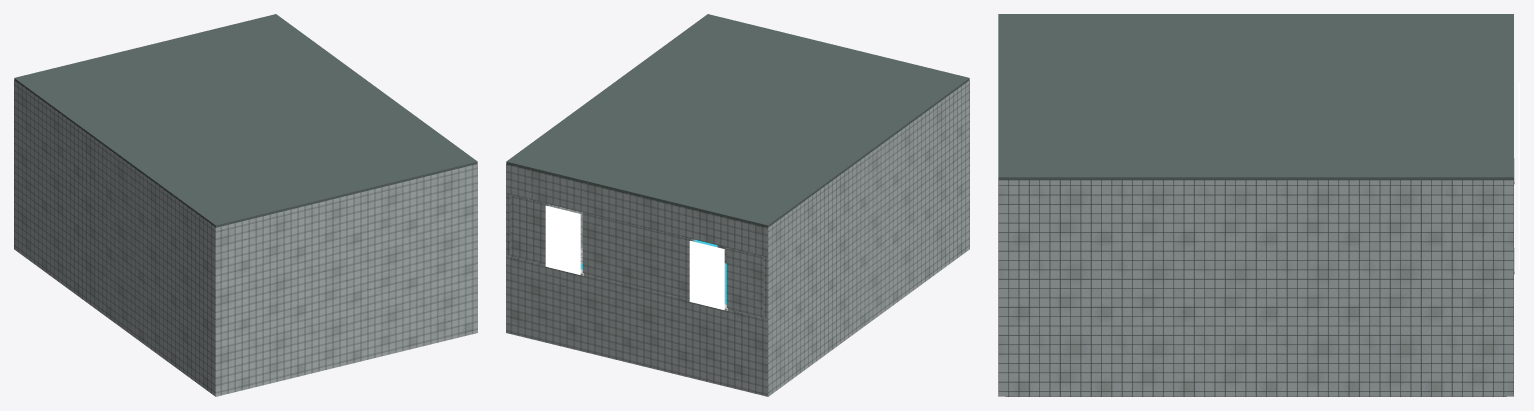
The model's file is pool_room_v001-36cdbf4e.glb.
The picture shows the model from 3 angles, left to right: view 1: azimuth 30°, elevation 25°; view 2: azimuth 150°, elevation 25°; view 3: azimuth 270°, elevation 25°; orthographic projection. The views are drawn at different scales.
Visible parts, largest first — view 1: PoolCeiling, PoolWallFront, PoolWallLeft; view 2: PoolCeiling, PoolWallLeft, PoolWallBackBottom, PoolWallBackTop, PoolWallBackCenter, PoolWallBackLeft, PoolWallBackRight, PoolWindowSky_1, PoolWindowSky_2, PoolWallRight; view 3: PoolWallRight, PoolCeiling, PoolBasinFloor.
Part boxes in pixels (x1,y1,x2,y2): PoolCeiling: (14, 14, 477, 227); PoolWallFront: (216, 164, 477, 396); PoolWallLeft: (14, 80, 215, 396); PoolCeiling: (506, 14, 969, 227); PoolWallLeft: (763, 80, 969, 396); PoolWallBackBottom: (506, 255, 767, 396); PoolWallBackTop: (506, 164, 767, 257); PoolWallBackCenter: (582, 212, 694, 299); PoolWallBackLeft: (726, 247, 763, 317); PoolWallBackRight: (510, 195, 550, 264); PoolWindowSky_1: (689, 240, 724, 309); PoolWindowSky_2: (545, 205, 580, 274); PoolWallRight: (506, 193, 582, 256); PoolWallRight: (998, 180, 1513, 396); PoolCeiling: (998, 14, 1513, 180); PoolBasinFloor: (1005, 396, 1506, 396).
Size of the model in its own units: 12 by 7.62 by 16.18.
Materials: 11 (2 with a texture image).
